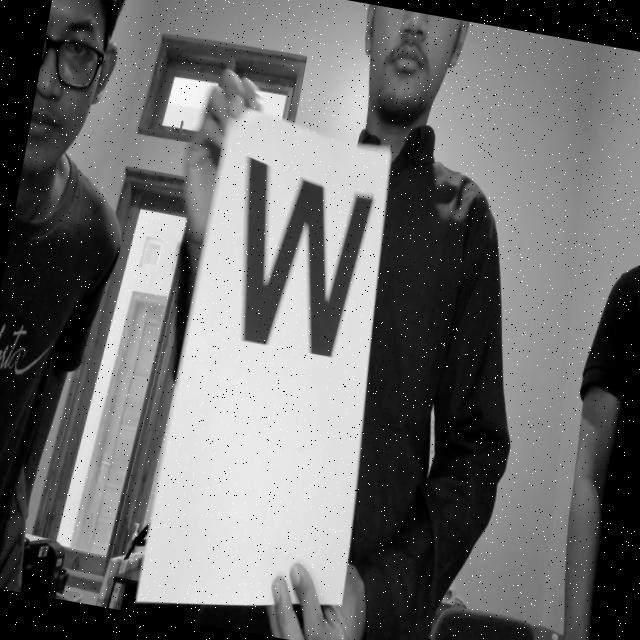w: (198, 132, 388, 392)
